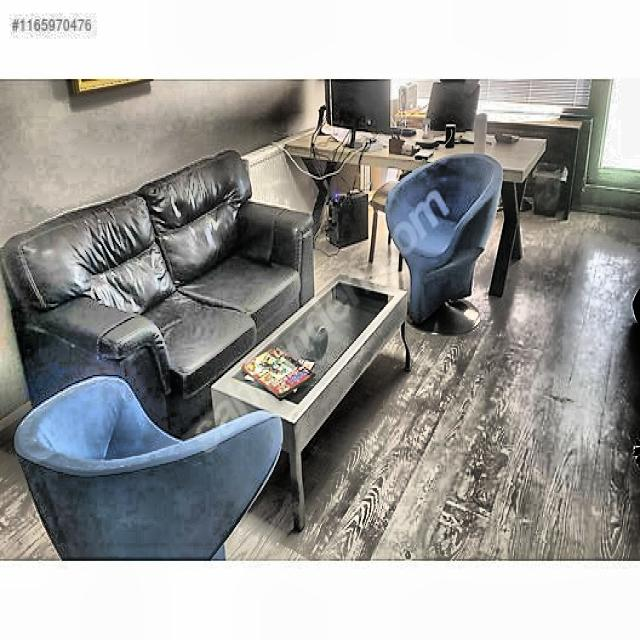sofa: (0, 147, 315, 438)
